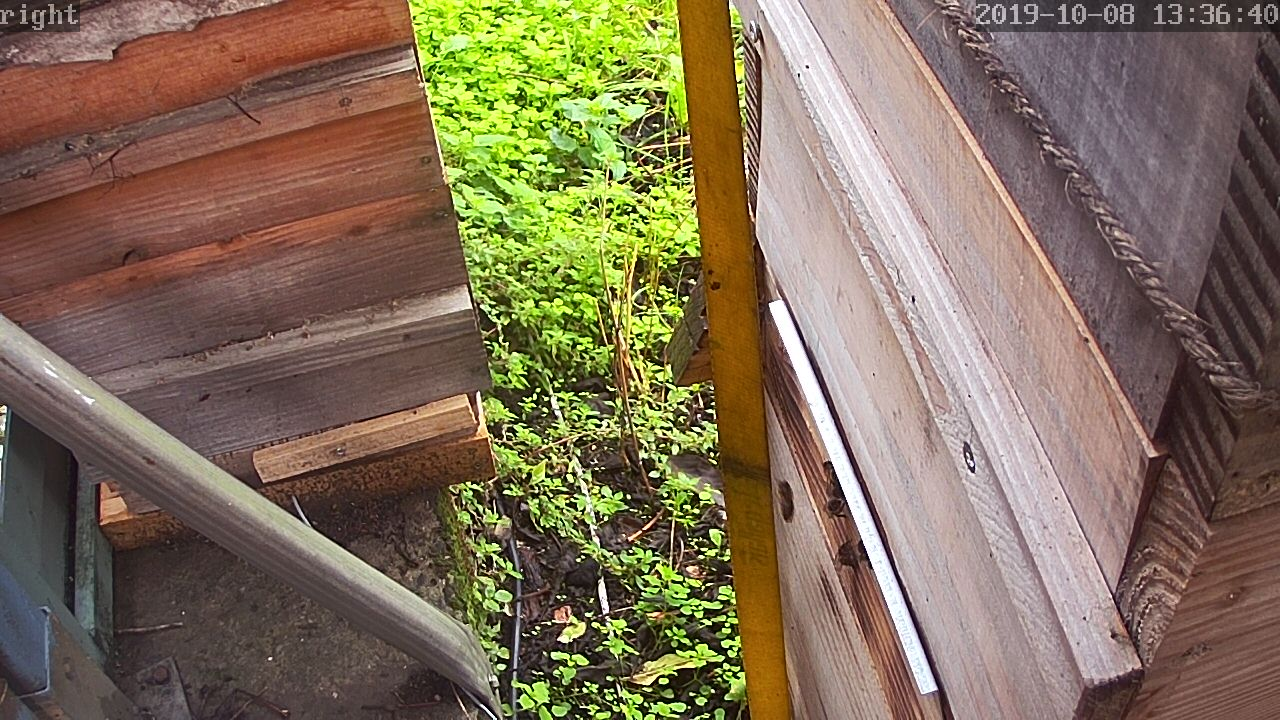bee: (815, 462, 851, 515), (829, 539, 875, 576), (772, 474, 803, 525)
